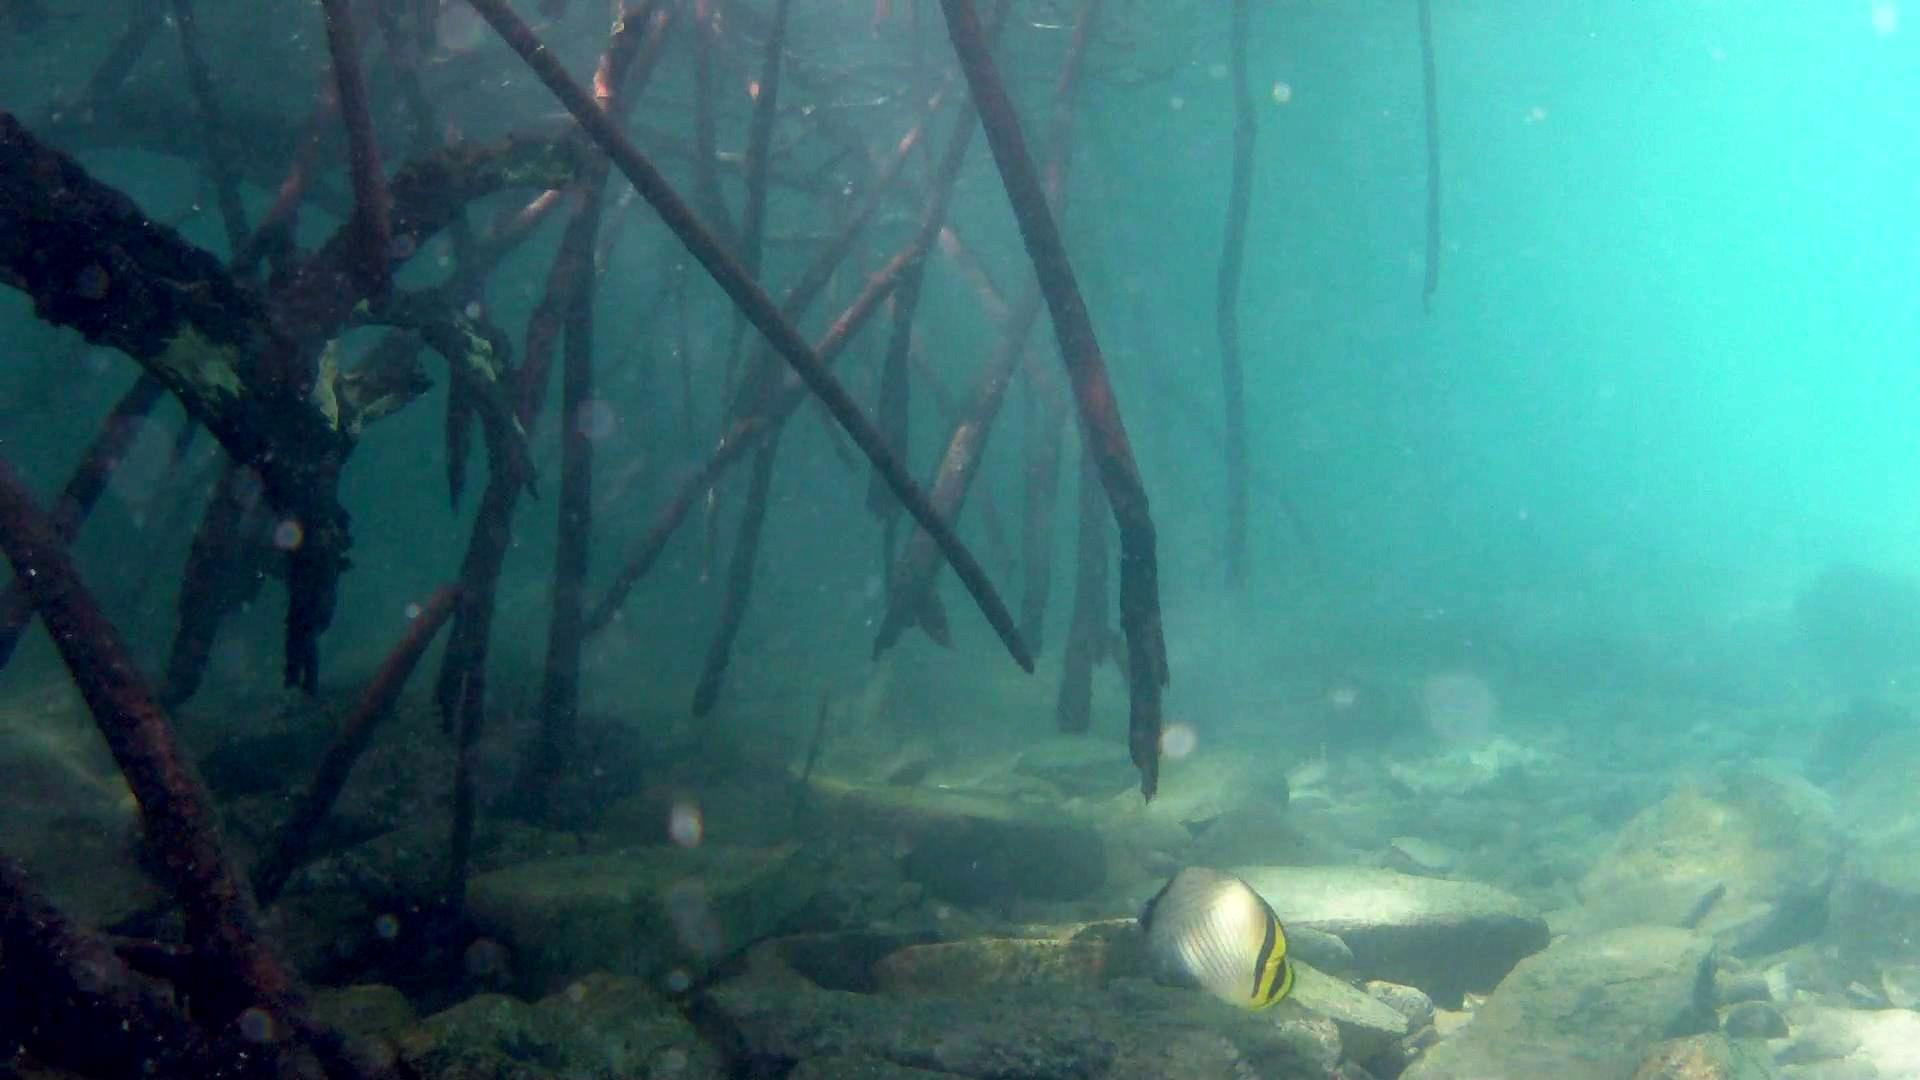chaetodon vagabundus: (1134, 861, 1299, 1018)
